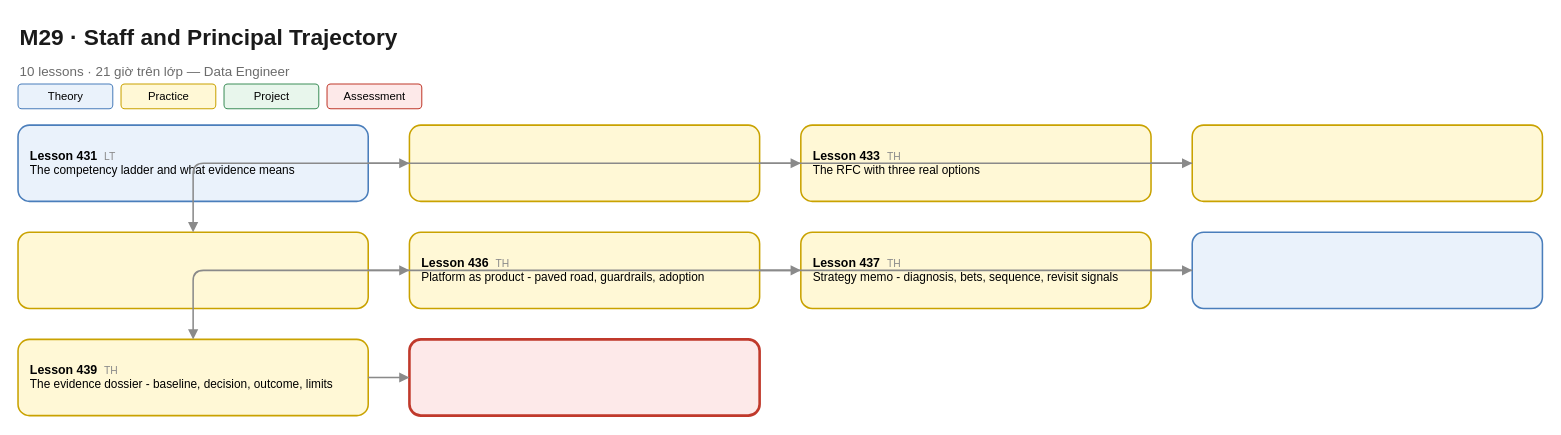
This 1561x435 diagram has some shape labels left out. The box of each missing label's shape, as (x1, y1, x2, y2) in pixels:
Lesson 432 TH Problem framing on one page: (408, 124, 760, 202)
Lesson 434 TH Architecture decision records for irreversible choices: (1191, 124, 1543, 202)
Lesson 435 TH Migration playbook with consumer inventory: (17, 231, 369, 309)
Lesson 438 LT Influence, review and the bottleneck anti-pattern: (1191, 231, 1543, 309)
Lesson 440 KT Graduation defence - one design, three audiences: (408, 338, 760, 416)
